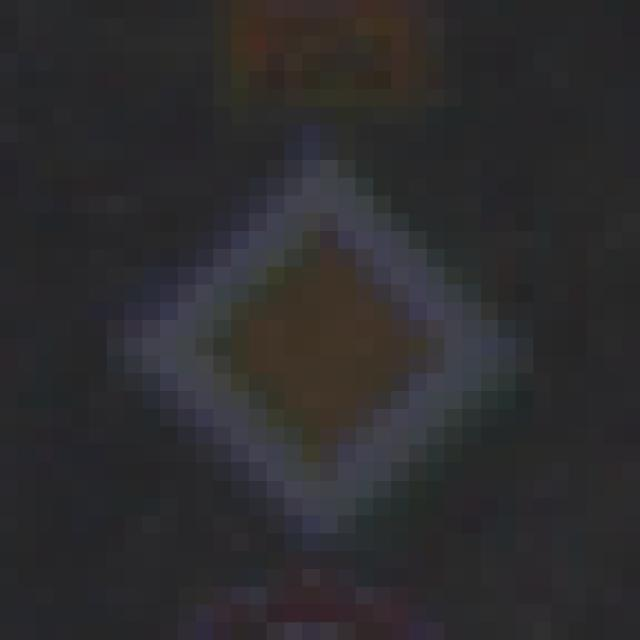Main Road: (90, 108, 552, 552)
